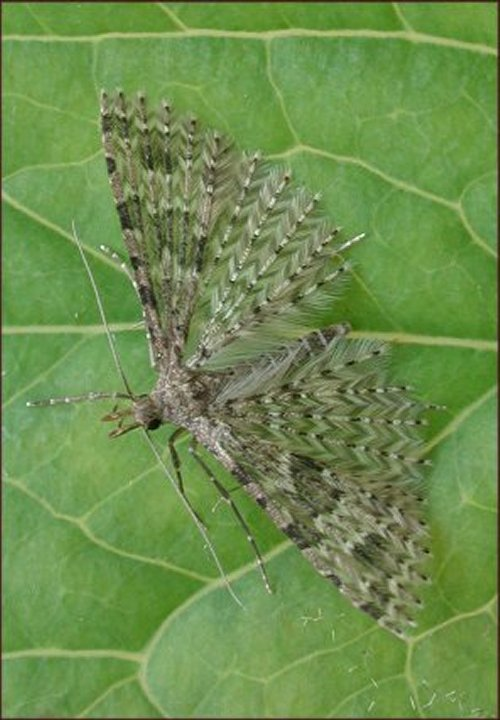Alucitidae: (24, 80, 454, 639)
moth: (22, 78, 452, 637)
